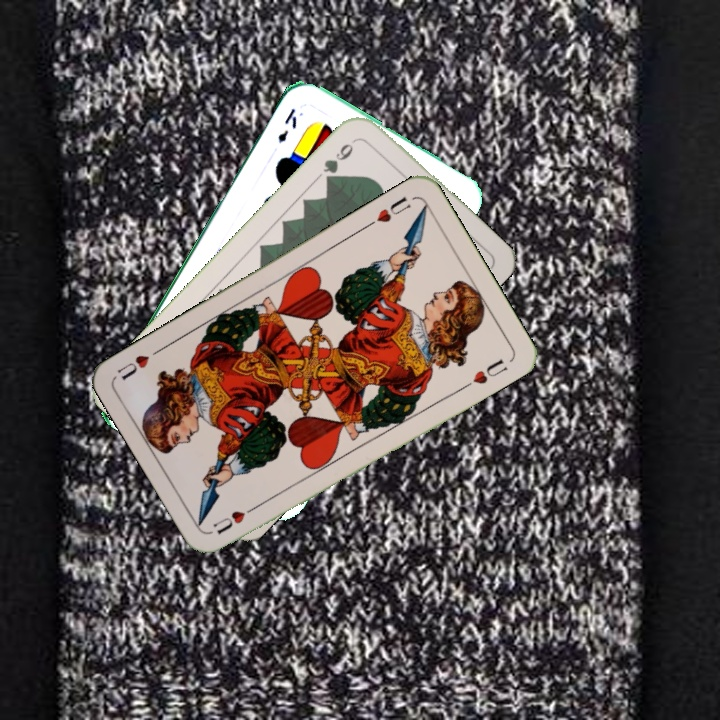EK: (273, 104, 300, 146)
G9: (318, 139, 356, 186)
HU: (209, 500, 262, 538), (363, 192, 414, 230)
